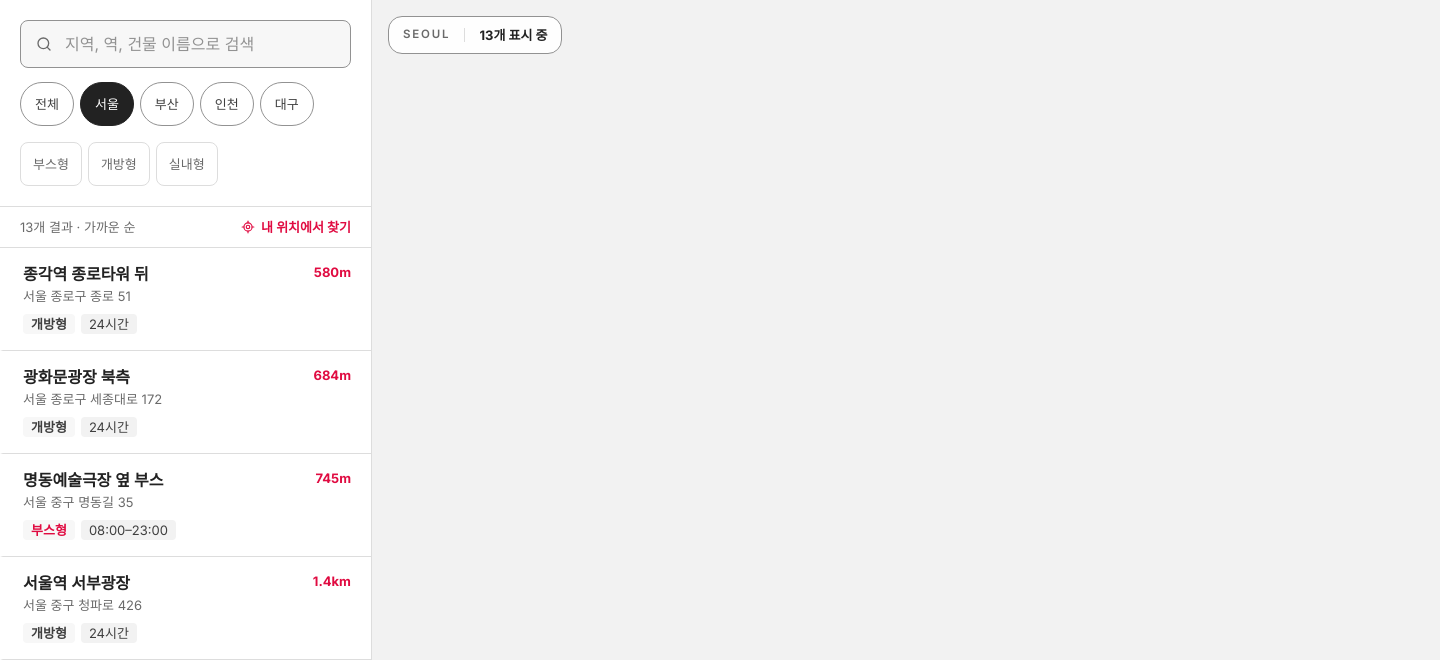
Test: MapView 필터 › 도시를 바꾸면 목록이 바뀐다
Click the radio button labelled "대구": (287, 104) [260,82,314,126]
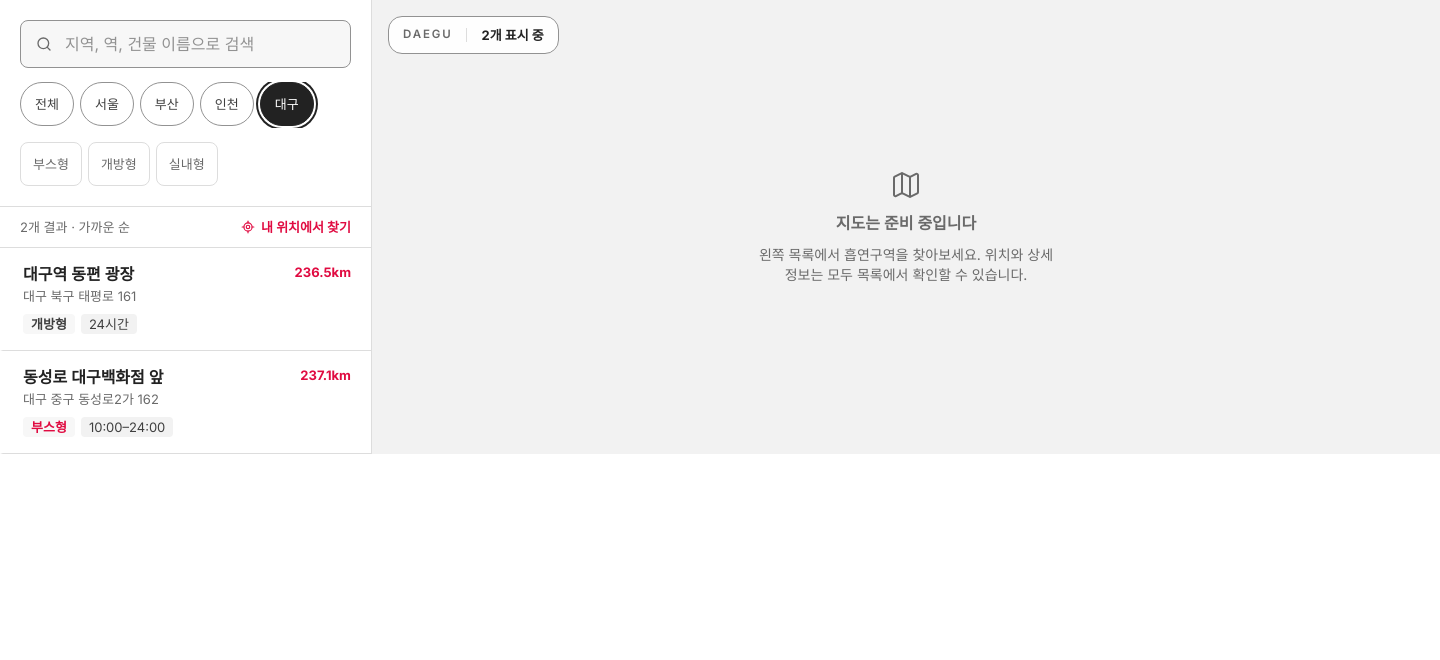
Check: the text "2개 결과 · 가까운 순" is shown, box [20,219,130,235]
Check: the text "대구역 동편 광장" is shown, box [23,264,136,284]
